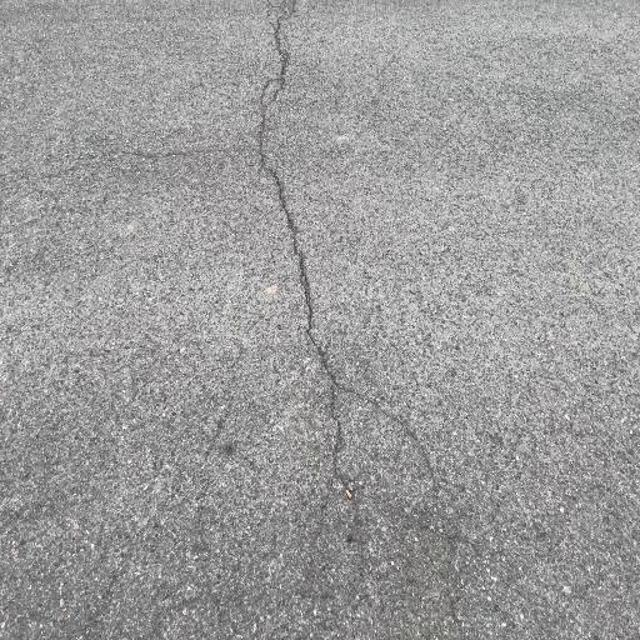Memanjang: (243, 0, 384, 528)
